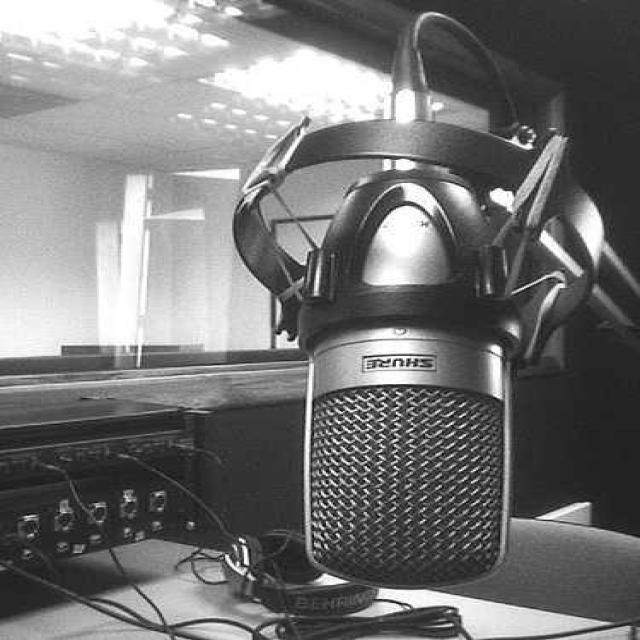microphone: (292, 152, 520, 586)
